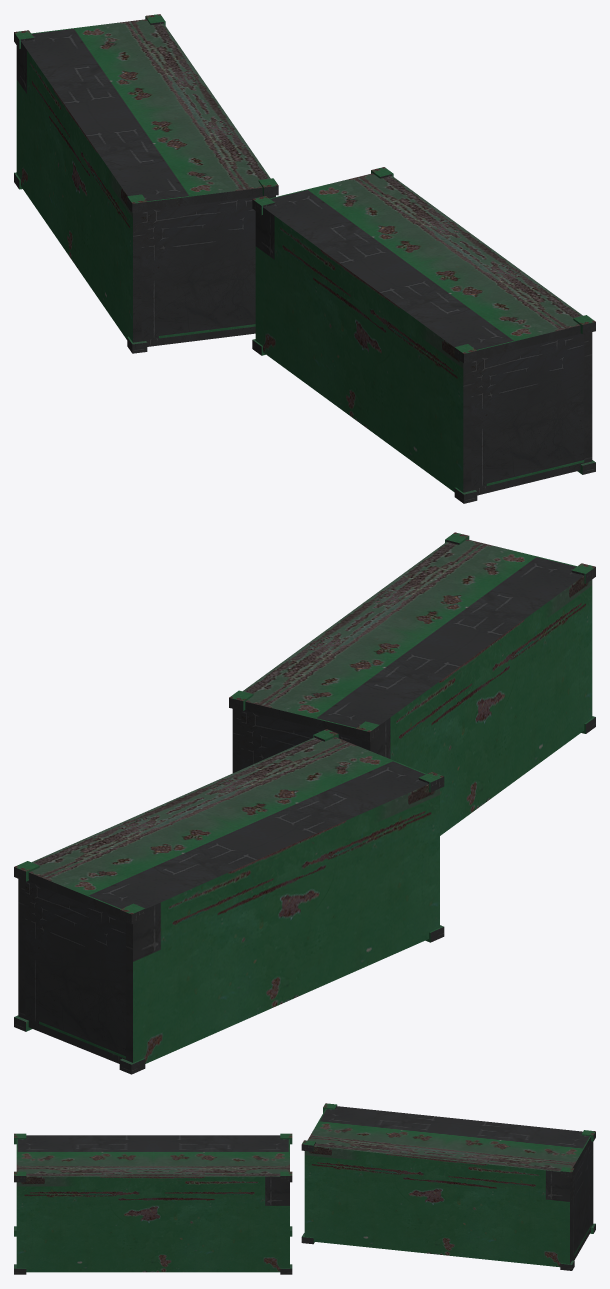
File: Container7_Closed0.fbx
The picture shows the model from 3 angles, top to bottom: view 1: azimuth 30°, elevation 25°; view 2: azimuth 150°, elevation 25°; view 3: azimuth 270°, elevation 25°; orthographic projection. The views are drawn at different scales.
Parts seen in each view (by area): view 1: Container7_Closed0; view 2: Container7_Closed0; view 3: Container7_Closed0.
Boxes of the visible parts, bbox=[...] form: Container7_Closed0: bbox=[14, 14, 595, 503]; Container7_Closed0: bbox=[14, 532, 595, 1074]; Container7_Closed0: bbox=[14, 1103, 595, 1274].
Size of the model in its own units: 422 by 1427 by 267.
